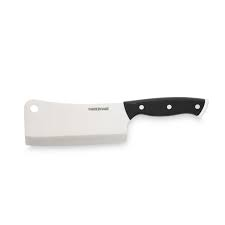knife: (23, 96, 206, 149)
